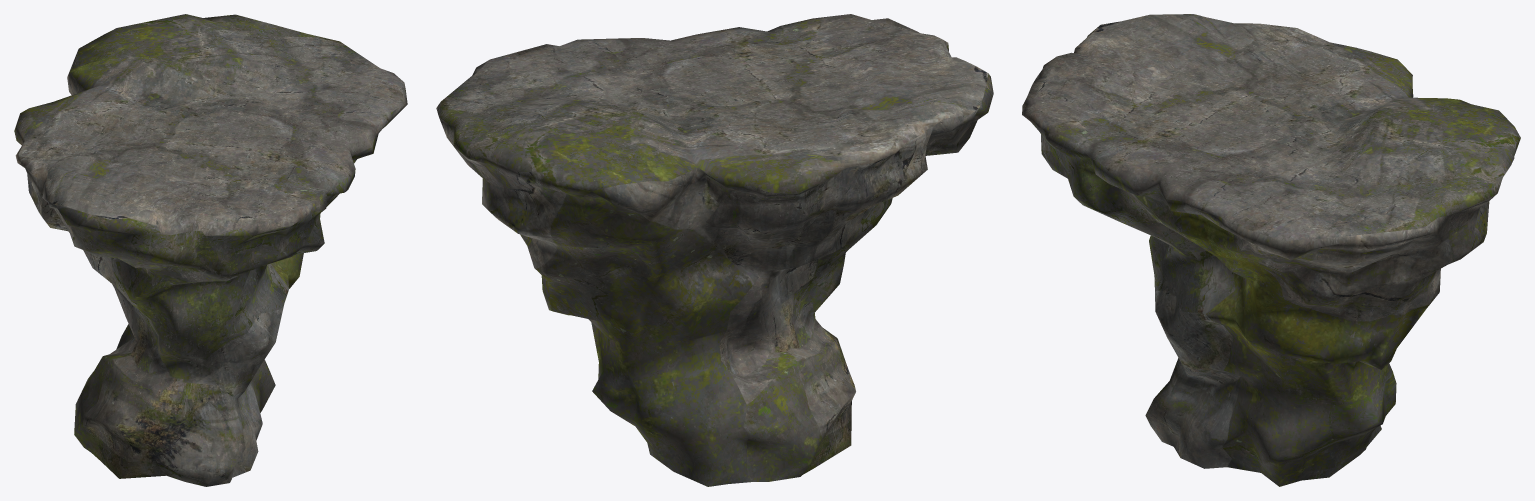
File: Rock14.fbx
3 views of the same model, side by side, from view 1: azimuth 30°, elevation 25°; view 2: azimuth 150°, elevation 25°; view 3: azimuth 270°, elevation 25° (orthographic). The views are drawn at different scales.
Visible parts, largest first — view 1: LV_Campagna_MoleCricketsDen_Pillar02_SM_EYE; view 2: LV_Campagna_MoleCricketsDen_Pillar02_SM_EYE; view 3: LV_Campagna_MoleCricketsDen_Pillar02_SM_EYE.
Boxes of the visible parts, x1=… form: LV_Campagna_MoleCricketsDen_Pillar02_SM_EYE: x1=14, y1=14, x2=407, y2=486; LV_Campagna_MoleCricketsDen_Pillar02_SM_EYE: x1=436, y1=14, x2=993, y2=486; LV_Campagna_MoleCricketsDen_Pillar02_SM_EYE: x1=1022, y1=14, x2=1520, y2=486.
Bounding box in the file's own units: 6.29 × 5.03 × 6.33.
1 material, 1 textured.
